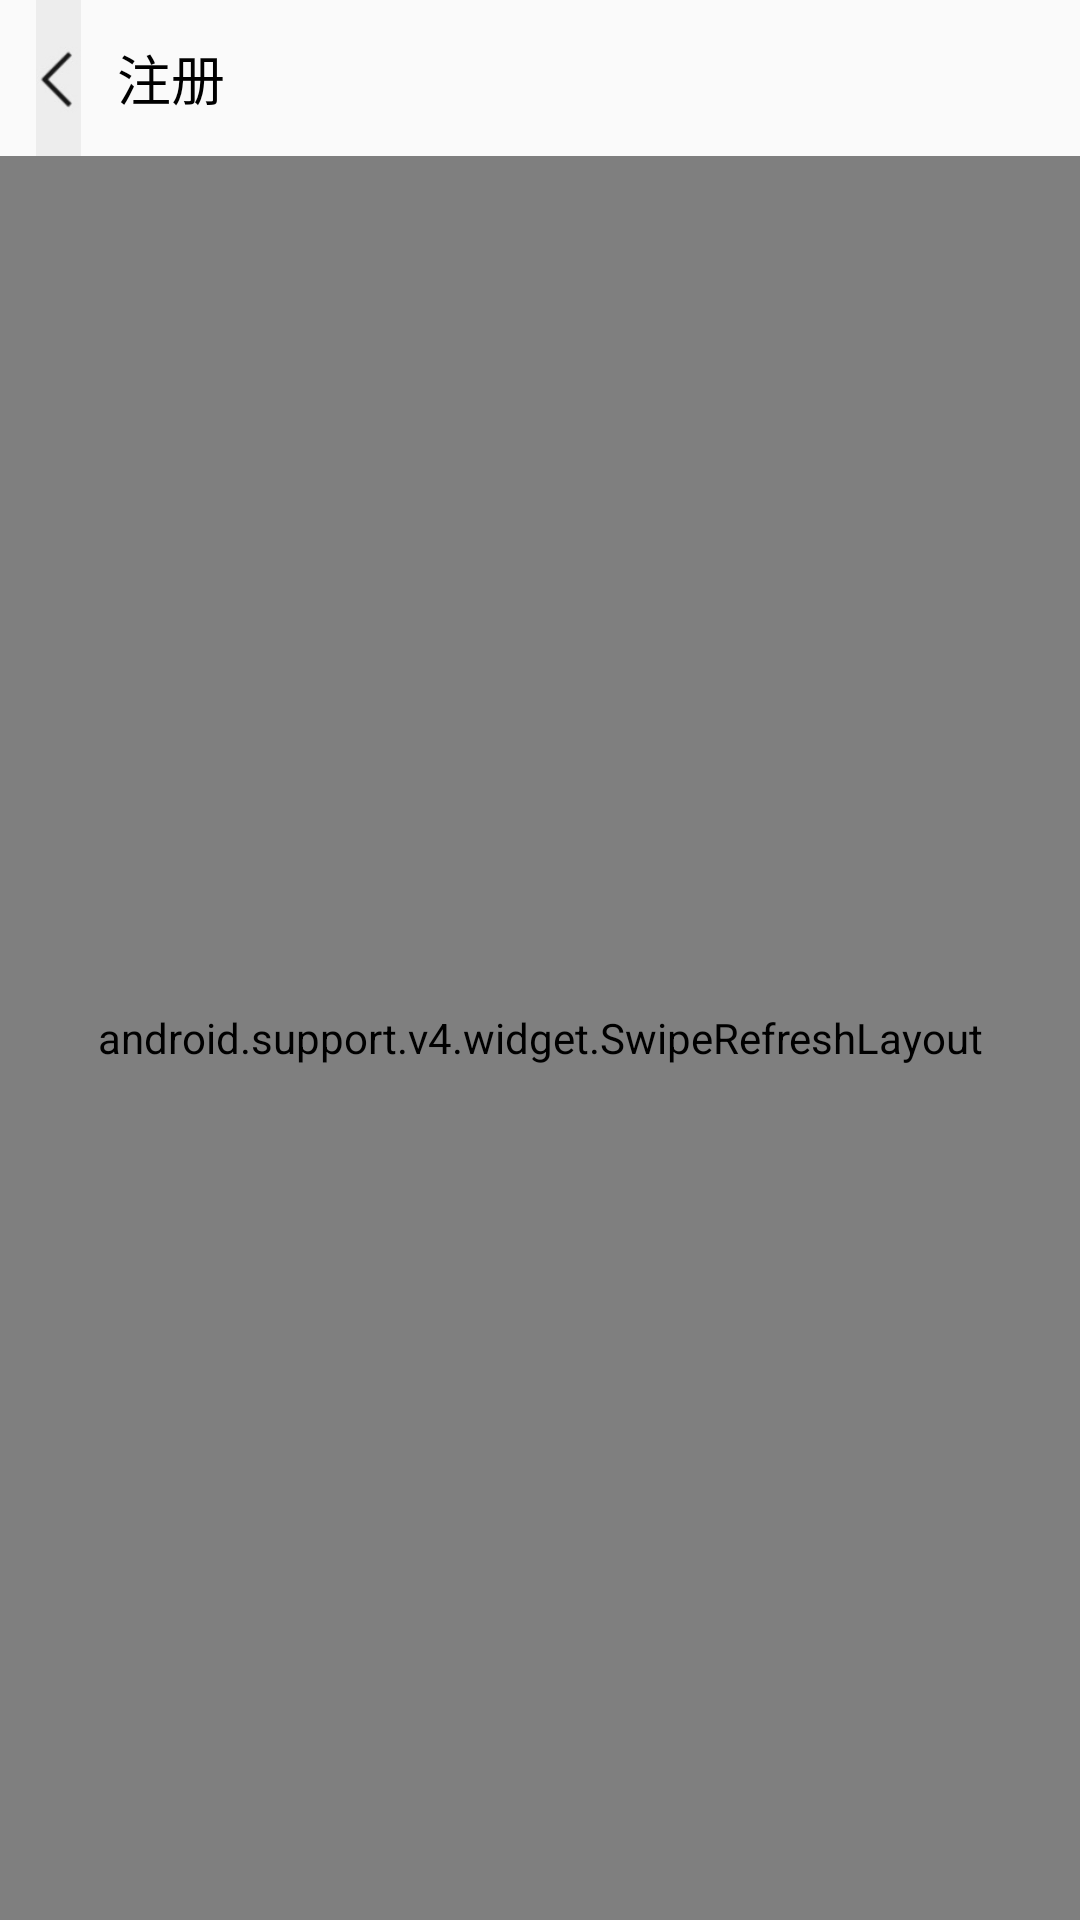

Point at icon controls on the screen. Image size 1080px×1920px, points as (x,y).
backbutton: (58,78)
